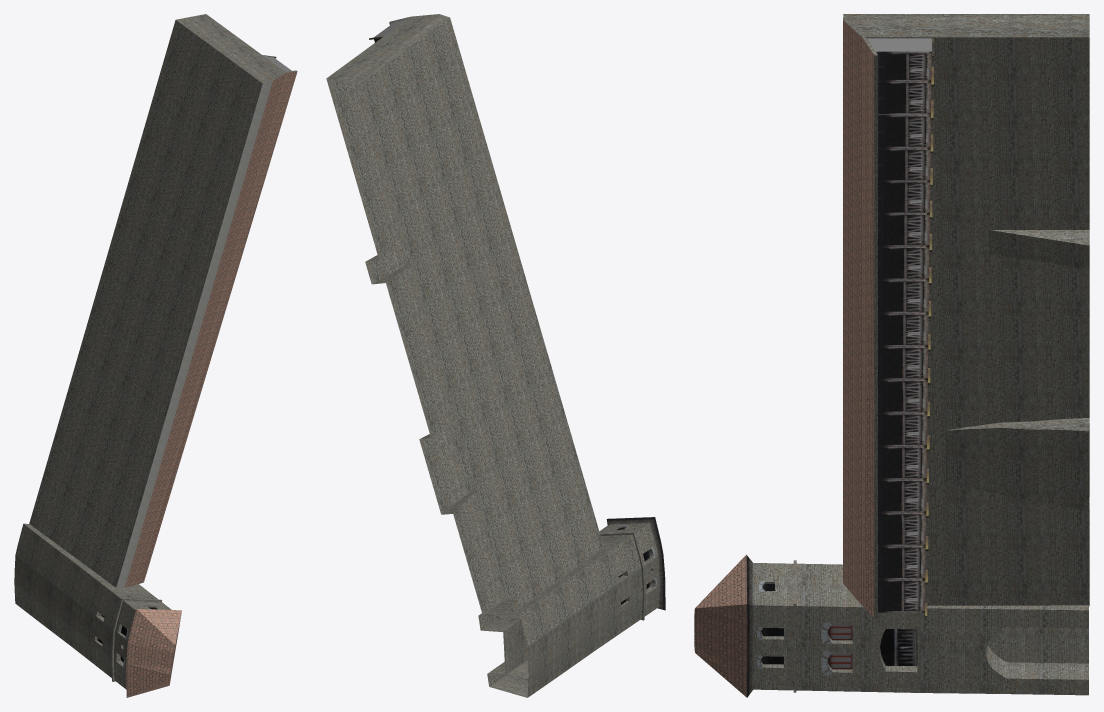
File: Kooli_1.obj
The picture shows the model from 3 angles, left to right: view 1: azimuth 30°, elevation 25°; view 2: azimuth 150°, elevation 25°; view 3: azimuth 270°, elevation 25°; orthographic projection. The views are drawn at different scales.
Parts seen in each view (by area): view 1: Kooli_1; view 2: Kooli_1; view 3: Kooli_1.
Boxes of the visible parts, <box> form: Kooli_1: <box>14,14,297,697</box>; Kooli_1: <box>326,14,665,697</box>; Kooli_1: <box>694,14,1089,697</box>.
Bounding box in the file's own units: 17.83 × 43.16 × 19.97.
